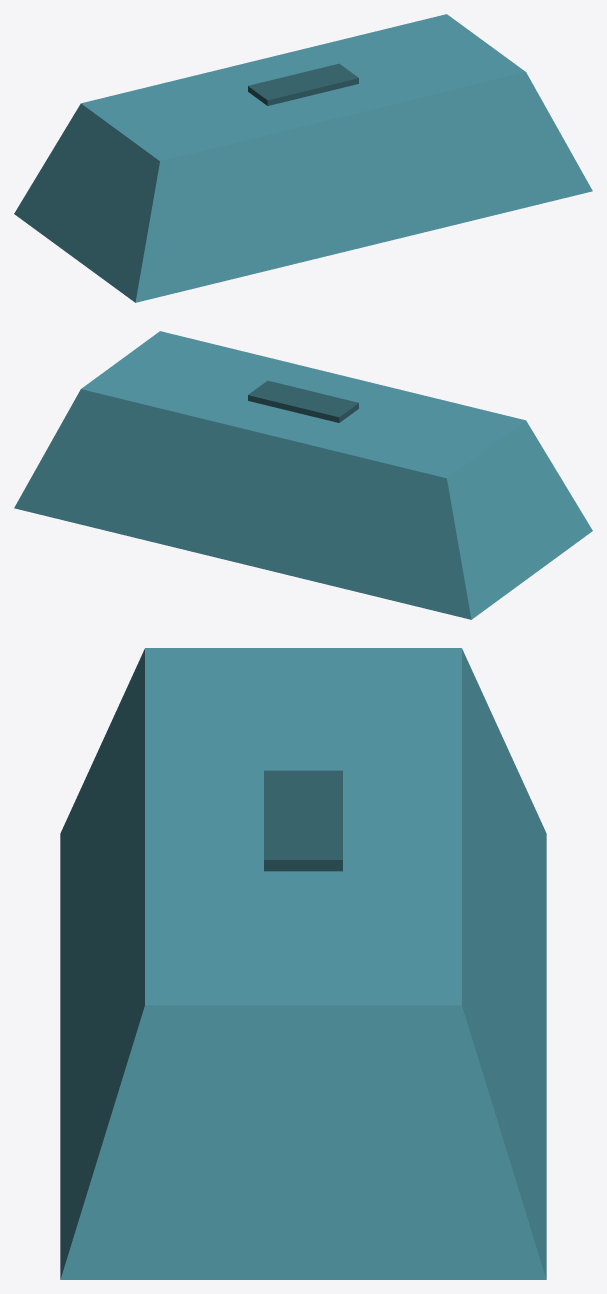
Rendered from runeBar.glb.
3 views of the same model, one above another, from view 1: azimuth 30°, elevation 25°; view 2: azimuth 150°, elevation 25°; view 3: azimuth 270°, elevation 25° (orthographic). The views are drawn at different scales.
Parts seen in each view (by area): view 1: runeBar; view 2: runeBar; view 3: runeBar.
Part boxes in pixels (x1,y1,x2,y2): runeBar: (14, 14, 592, 302); runeBar: (14, 331, 592, 619); runeBar: (60, 648, 546, 1279).
Size of the model in its own units: 1 by 0.252 by 0.46.
